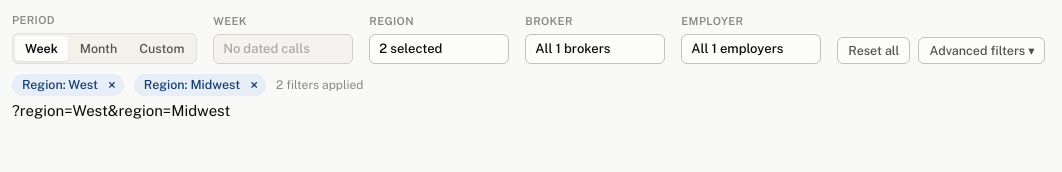
FilterBar › removes one value without clearing the rest of that filter
Click the button named "Remove Region filter West".
click(112, 85)  # box x1=104 y1=78 x2=120 y2=92
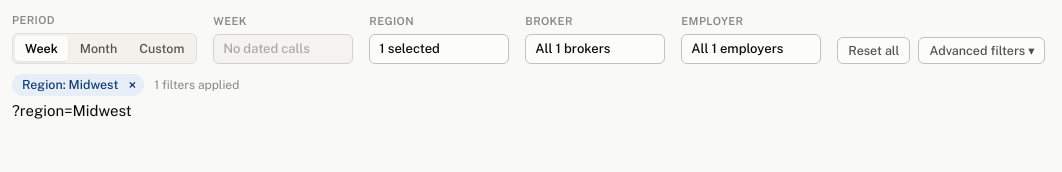
Expected: the text with test id "address" shows "region=Midwest", x1=12 y1=102 x2=132 y2=119
Expected: the text with test id "address" no longer shows "region=West"
